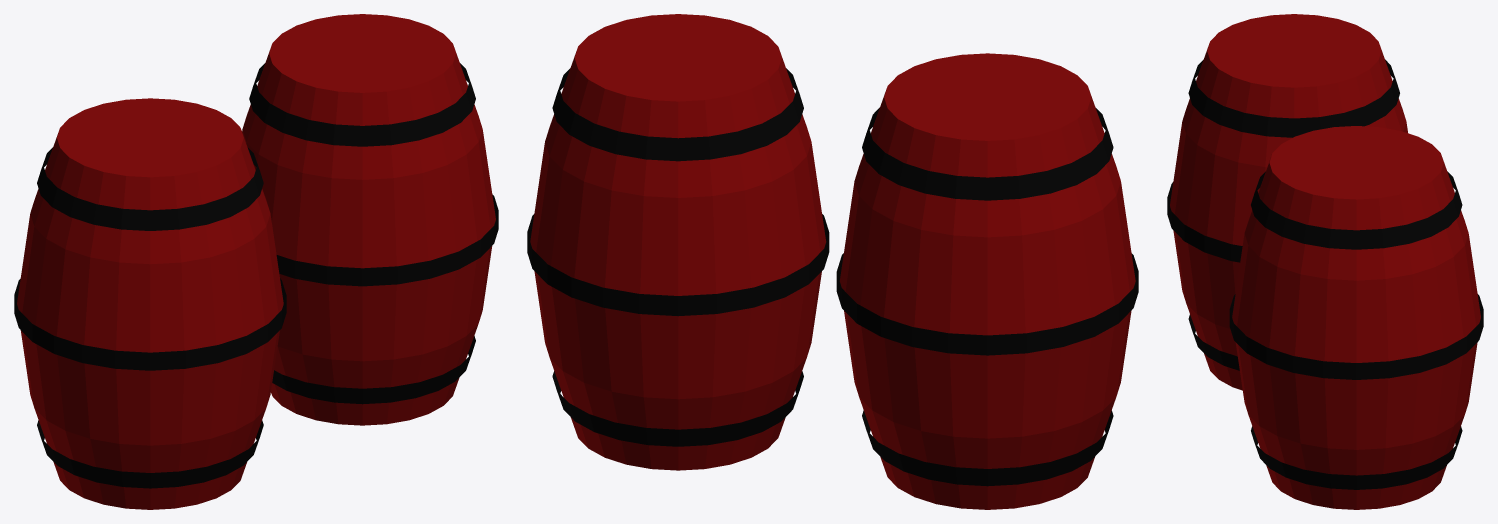
Rendered from SilverbrookGildedTankard_Barrels.fbx.
3 views of the same model, side by side, from view 1: azimuth 30°, elevation 25°; view 2: azimuth 150°, elevation 25°; view 3: azimuth 270°, elevation 25° (orthographic). The views are drawn at different scales.
Visible parts, largest first — view 1: SM_SBGildedTankard_Barrels_Part; view 2: SM_SBGildedTankard_Barrels_Part; view 3: SM_SBGildedTankard_Barrels_Part.
Part boxes in pixels (x1,y1,x2,y2): SM_SBGildedTankard_Barrels_Part: (14,14,498,509); SM_SBGildedTankard_Barrels_Part: (527,14,1138,509); SM_SBGildedTankard_Barrels_Part: (1167,14,1483,509).
Bounding box in the file's own units: 167 × 110 × 102.
